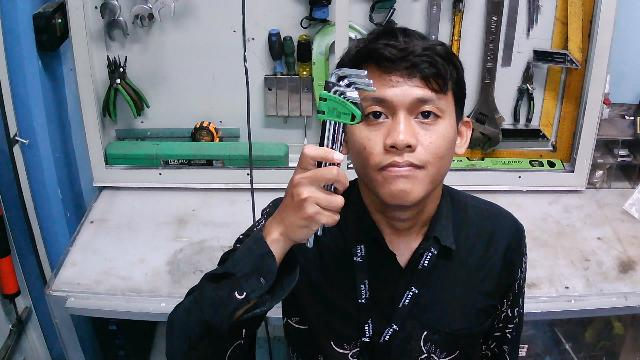kunci_l: (302, 63, 378, 254)
